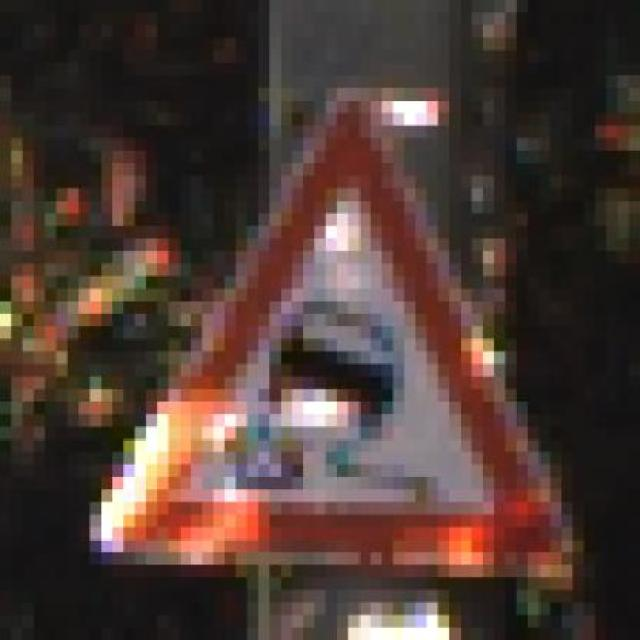Slippery Road Ahead: (90, 75, 584, 578)
